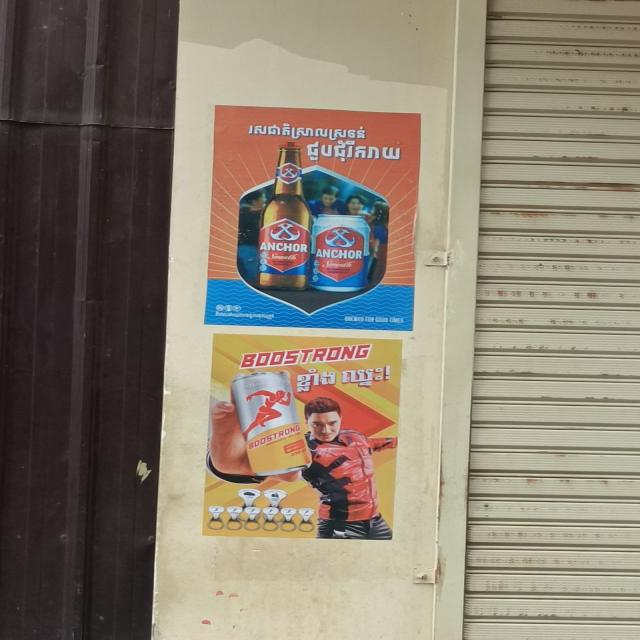Yolov11kh: (291, 362, 395, 396), (246, 119, 373, 142), (303, 139, 405, 164)
